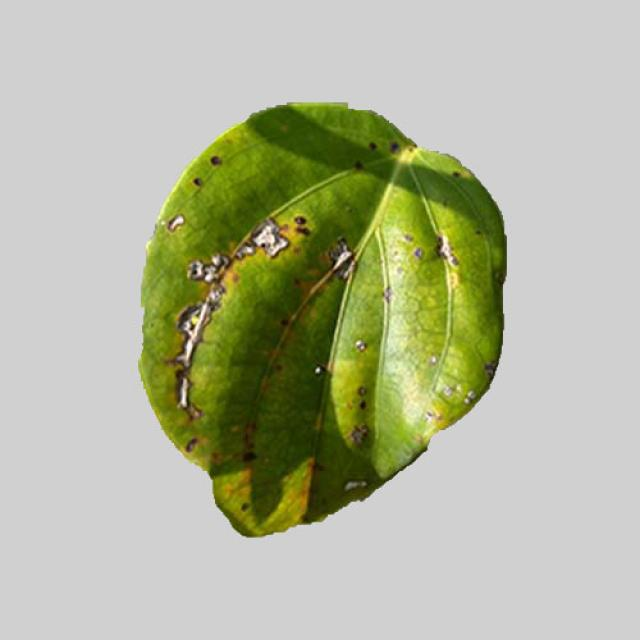yellow-mottle-virus: (124, 110, 513, 535)
